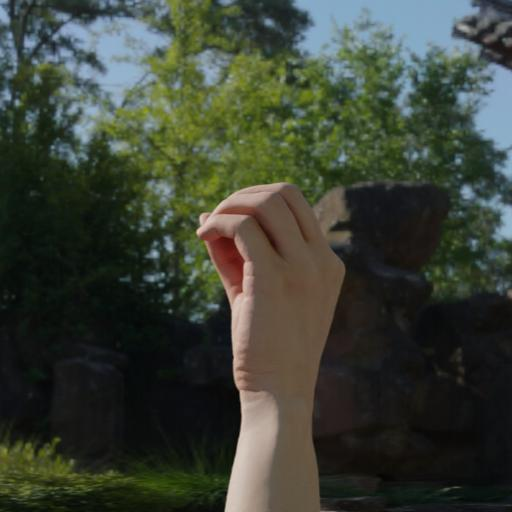O: (159, 167, 379, 402)
